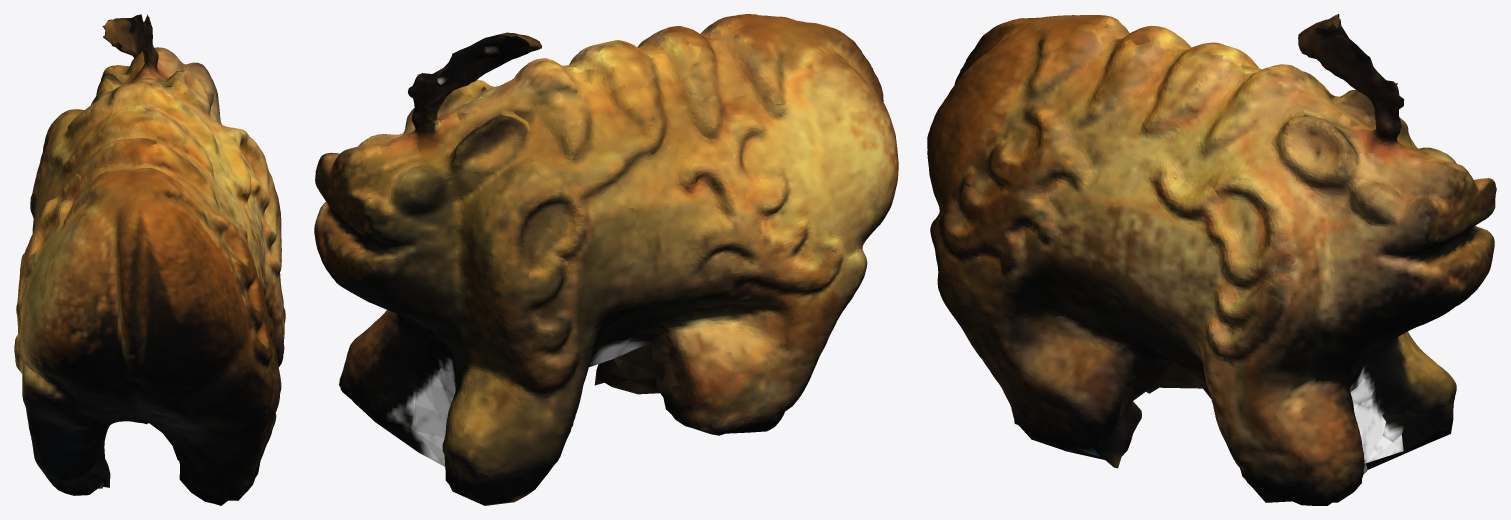
File: Stone_Animal_from_King_Muryeongs_Tomb.glb
The picture shows the model from 3 angles, left to right: view 1: azimuth 30°, elevation 25°; view 2: azimuth 150°, elevation 25°; view 3: azimuth 270°, elevation 25°; orthographic projection. The views are drawn at different scales.
Visible parts, largest first — view 1: texturedMesh; view 2: texturedMesh; view 3: texturedMesh.
Boxes of the visible parts, box(x1,y1,x2,y2) form: texturedMesh: box(14, 14, 285, 505); texturedMesh: box(314, 14, 898, 505); texturedMesh: box(927, 14, 1496, 505).
Bounding box in the file's own units: 0.5285 × 0.5464 × 0.6373.
Materials: 1 (1 with a texture image).
